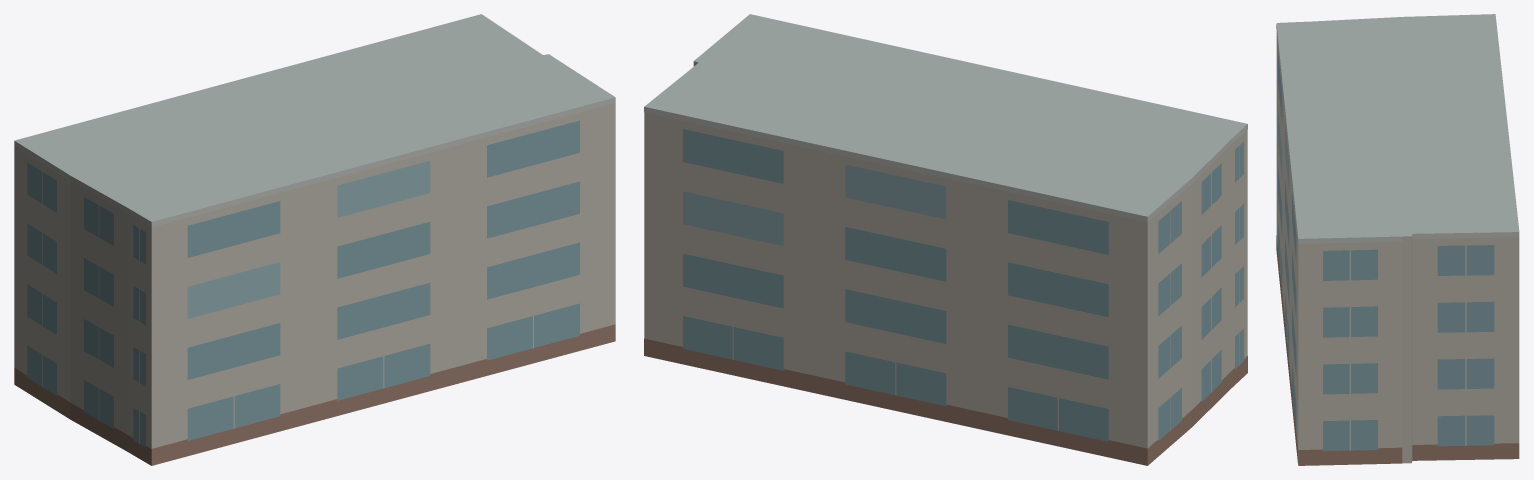
File: survey-upis-33017810.glb
3 views of the same model, side by side, from view 1: azimuth 30°, elevation 25°; view 2: azimuth 150°, elevation 25°; view 3: azimuth 270°, elevation 25° (orthographic). The views are drawn at different scales.
Parts seen in each view (by area): view 1: survey-upis-33017810.tmp; view 2: survey-upis-33017810.tmp; view 3: survey-upis-33017810.tmp.
Part boxes in pixels (box(x1,y1,x2,y2)): survey-upis-33017810.tmp: box(14, 14, 615, 465); survey-upis-33017810.tmp: box(644, 14, 1247, 465); survey-upis-33017810.tmp: box(1276, 14, 1519, 465).
Size of the model in its own units: 22.96 by 10.8 by 10.49.
